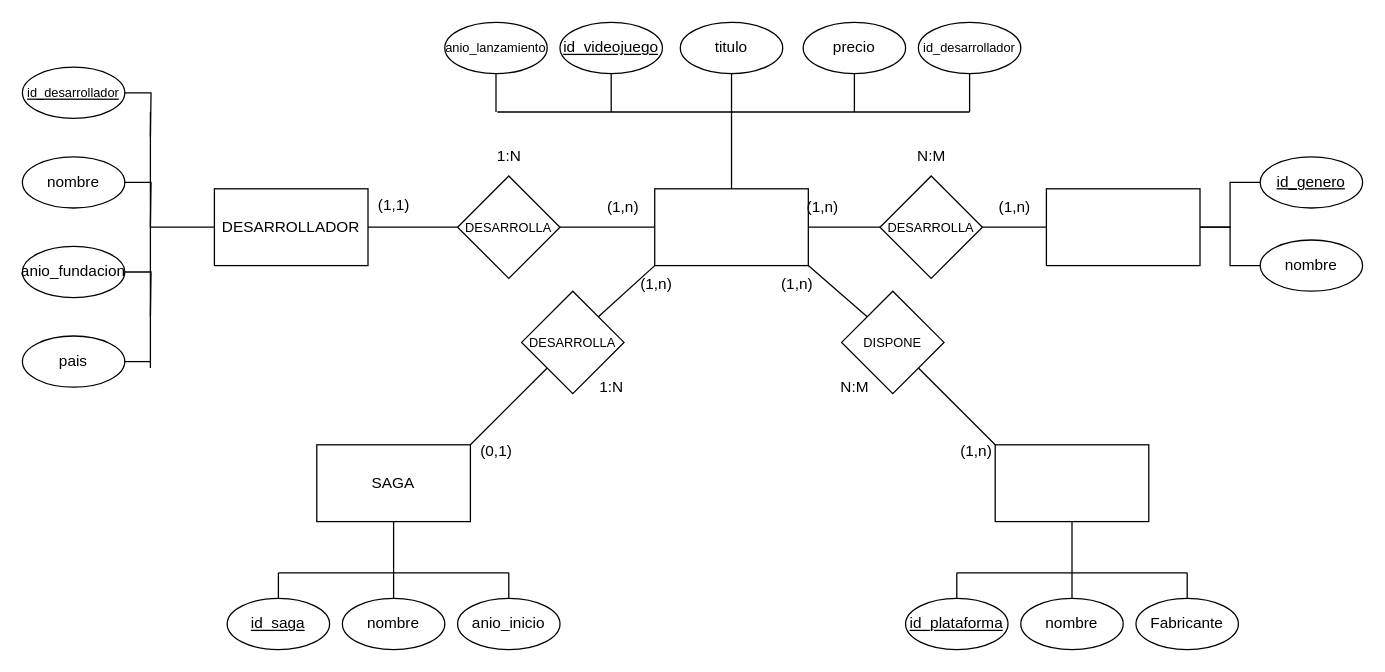
Image size: 1385x672. Some labels were removed from this diagram. Here are the shapes that lost their labels. From the top down, the centre of each, then its label:
point (730, 227): VIDEOJUEGO
point (1122, 227): GENERO
point (1071, 483): PLATAFORMA
